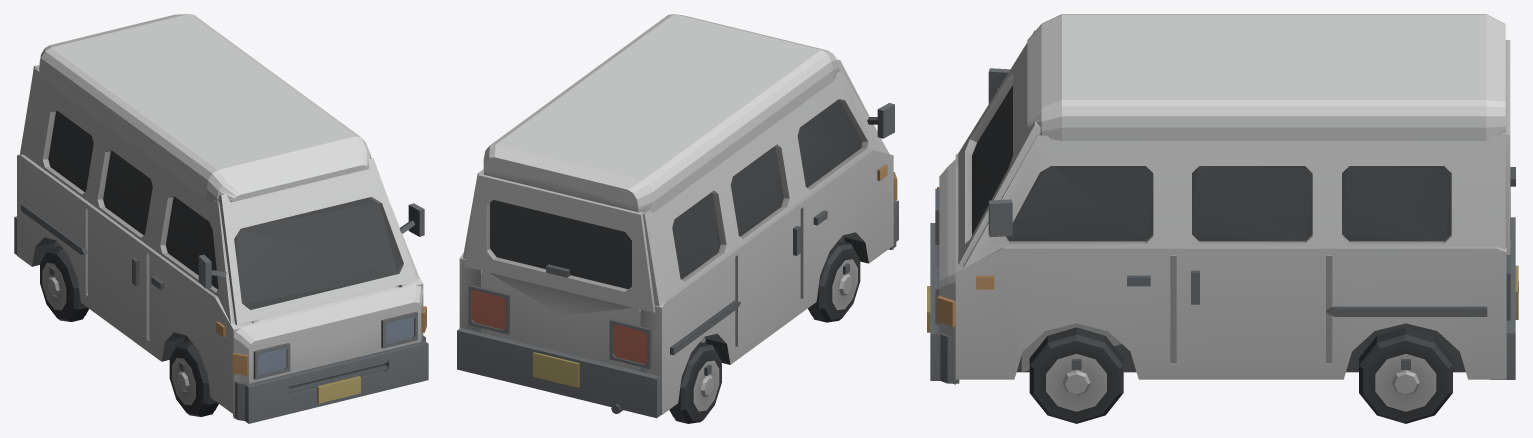
The model's file is keivan.glb.
3 views of the same model, side by side, from view 1: azimuth 30°, elevation 25°; view 2: azimuth 150°, elevation 25°; view 3: azimuth 270°, elevation 25° (orthographic). The views are drawn at different scales.
Parts seen in each view (by area): view 1: keivan; view 2: keivan; view 3: keivan.
Boxes of the visible parts, x1,y1,x2,y2 form: keivan: (14, 14, 428, 423); keivan: (457, 14, 898, 423); keivan: (927, 14, 1518, 423).
Bounding box in the file's own units: 1.76 × 1.87 × 3.23.
